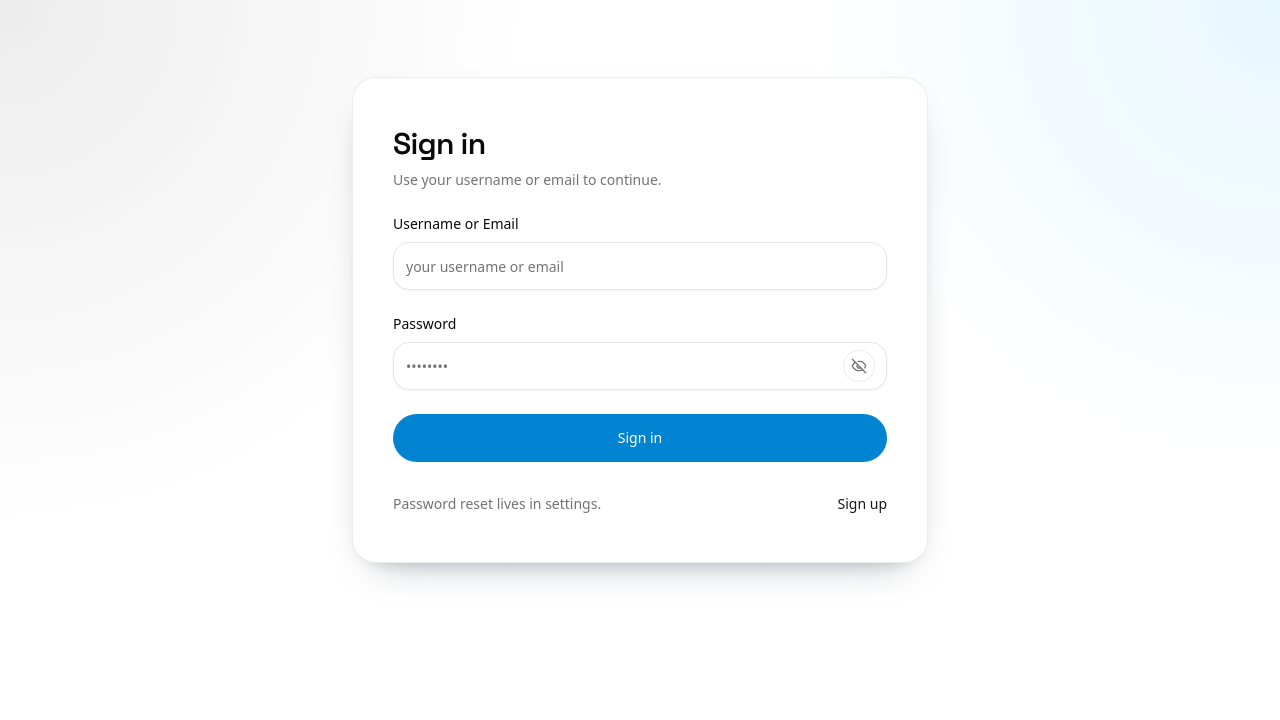
Login page › shows an error message when sign-in fails
This screenshot has width=1280, height=720.
Type "alice" into the field labelled "Username or Email" at (640, 266), box [393,242,887,290]
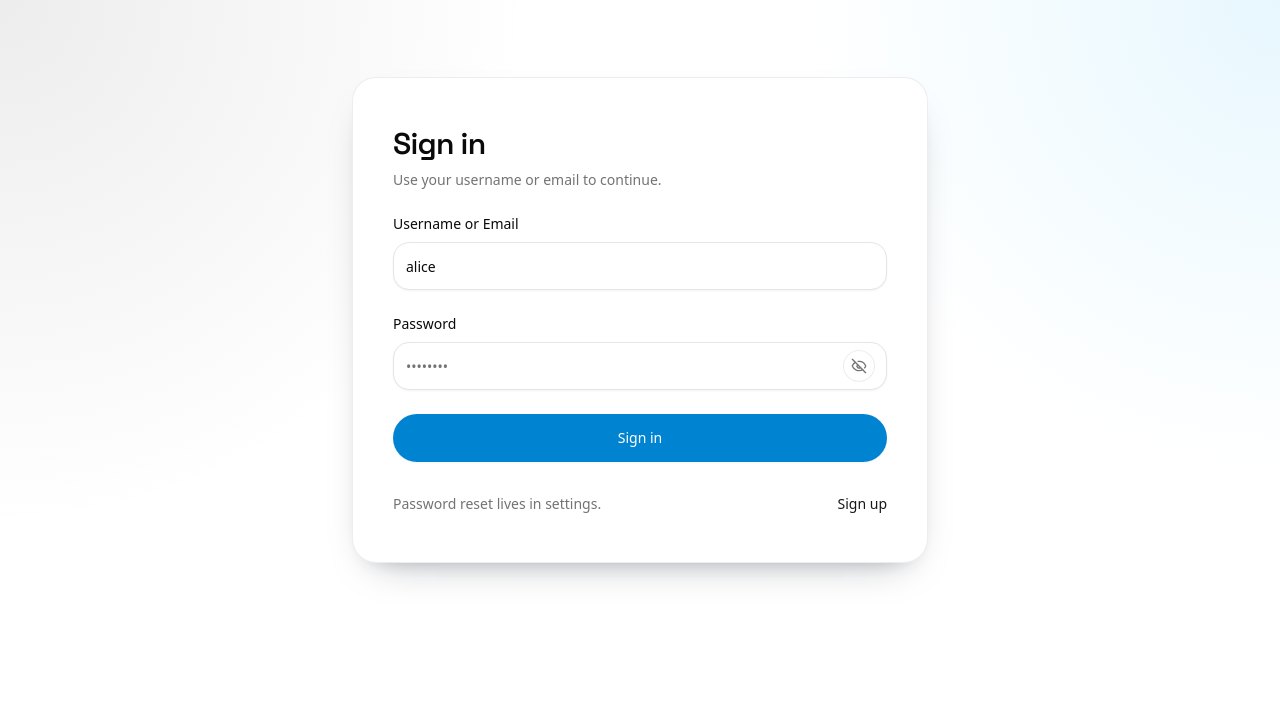
Type "wrong password" into the password field labelled "Password" at (640, 366), box [393,342,887,390]
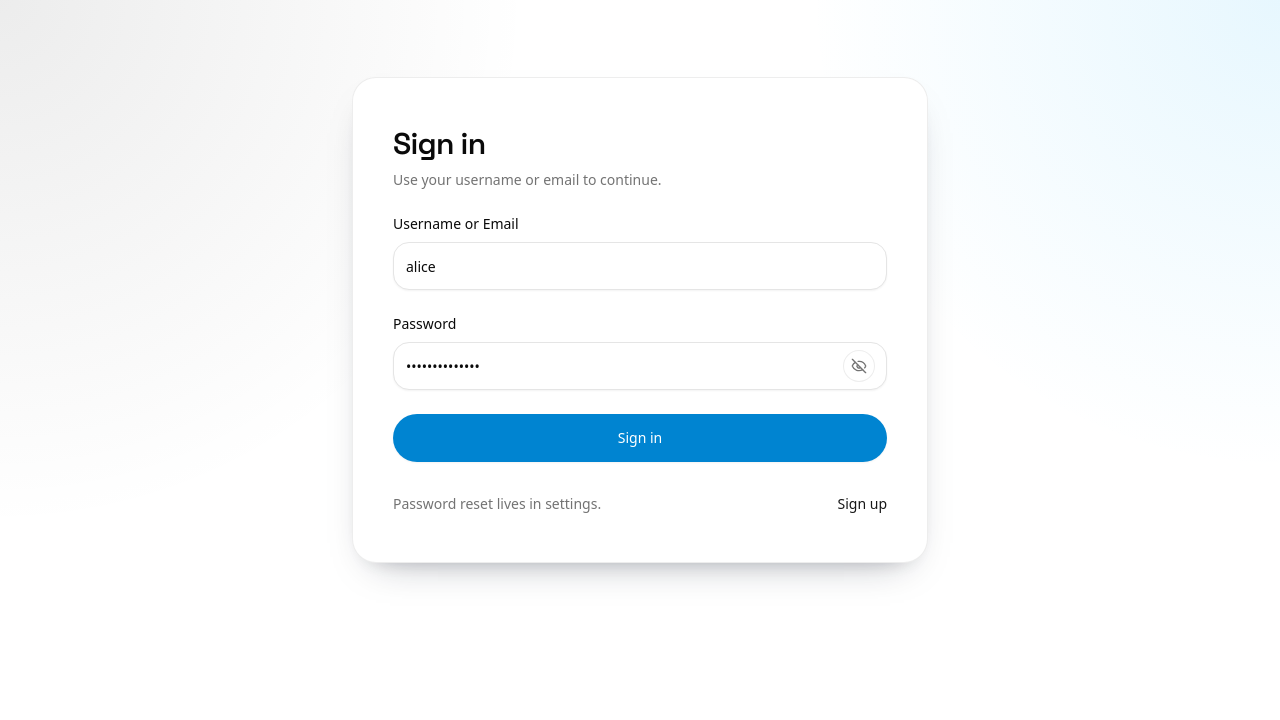
Click the button "Sign in" at (640, 438), box [393,414,887,462]
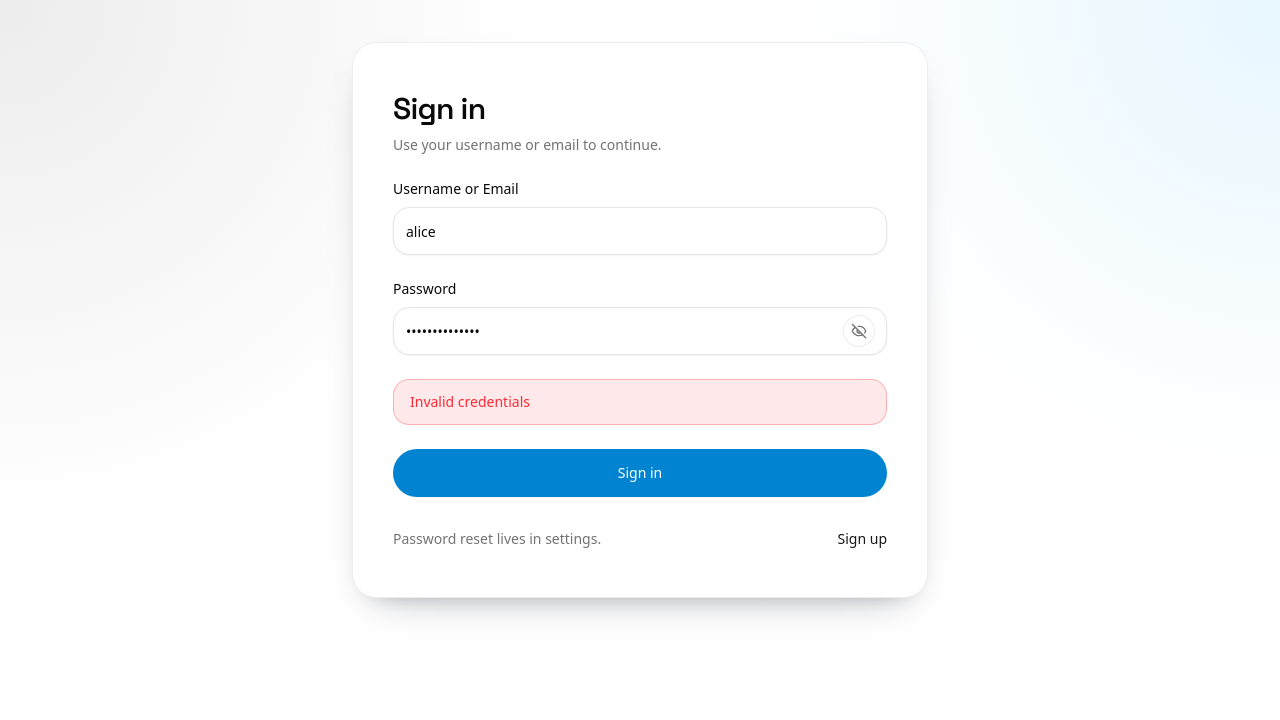
Expected: the text "Invalid credentials" is shown, [393,379,887,425]
